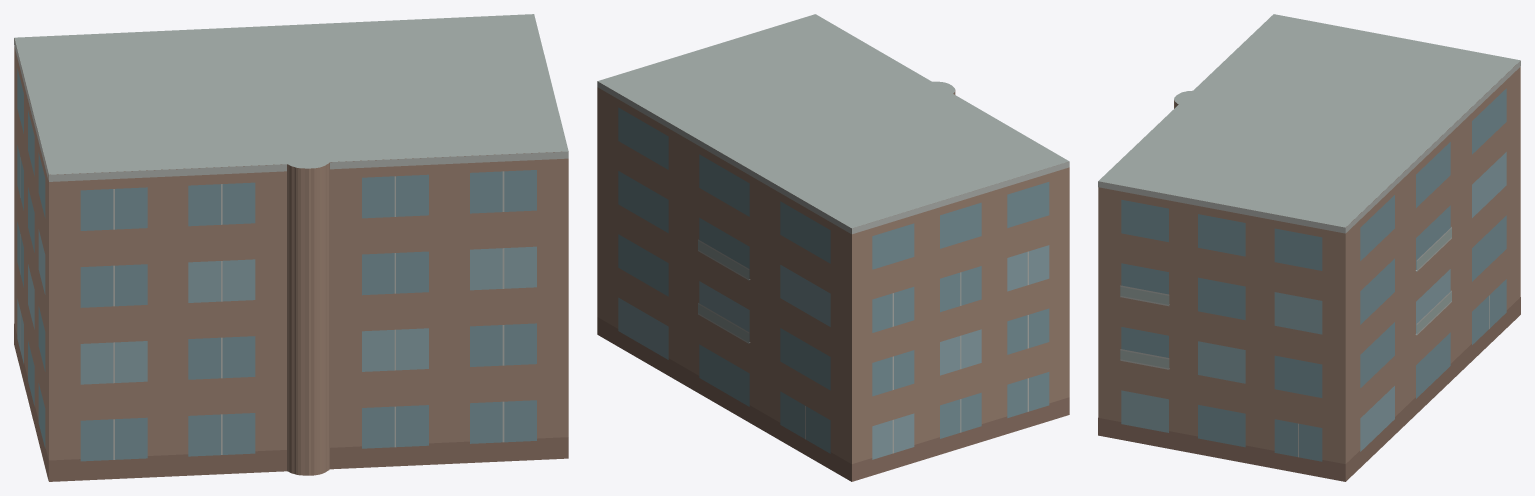
The model's file is survey-upis-32961180.glb.
3 renders of one model, left to right at view 1: azimuth 30°, elevation 25°; view 2: azimuth 150°, elevation 25°; view 3: azimuth 270°, elevation 25°, orthographic. The views are drawn at different scales.
Visible parts, largest first — view 1: survey-upis-32961180.tmp; view 2: survey-upis-32961180.tmp; view 3: survey-upis-32961180.tmp.
Part boxes in pixels (x1,y1,x2,y2): survey-upis-32961180.tmp: (14, 14, 568, 481); survey-upis-32961180.tmp: (597, 14, 1069, 481); survey-upis-32961180.tmp: (1098, 14, 1520, 481).
Size of the model in its own units: 18.75 by 10.4 by 15.68.
